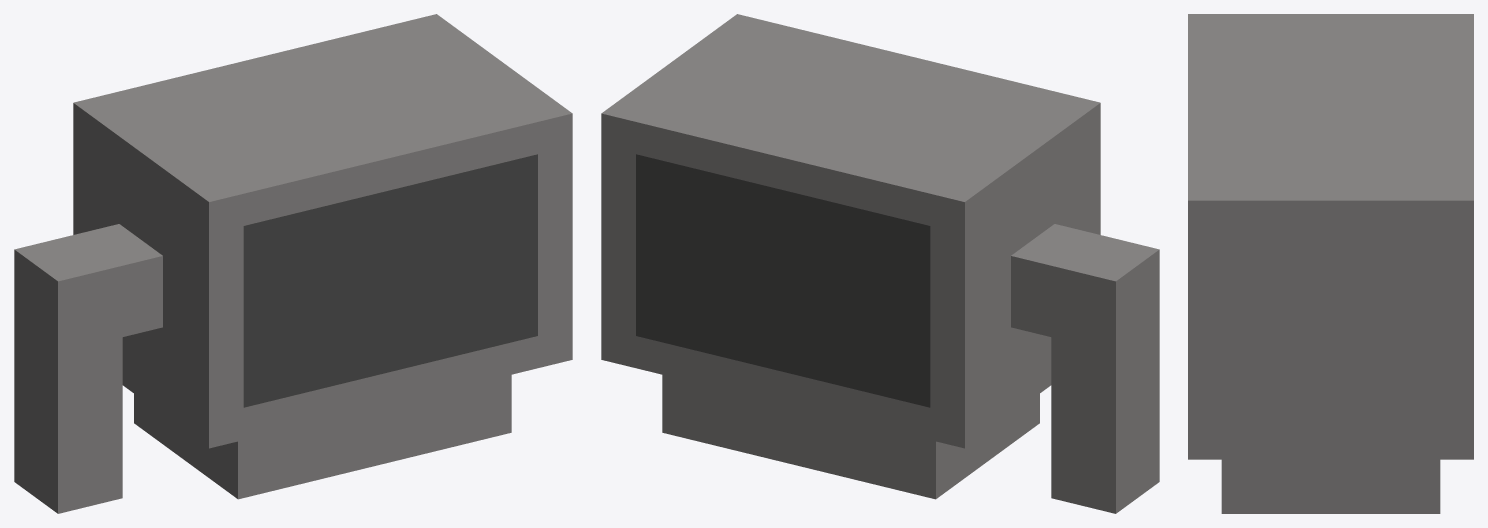
The model's file is SM_Prop_Airvent_01.fbx.
The picture shows the model from 3 angles, left to right: view 1: azimuth 30°, elevation 25°; view 2: azimuth 150°, elevation 25°; view 3: azimuth 270°, elevation 25°; orthographic projection. The views are drawn at different scales.
Parts seen in each view (by area): view 1: SM_Prop_Airvent_01; view 2: SM_Prop_Airvent_01; view 3: SM_Prop_Airvent_01.
Boxes of the visible parts, x1,y1,x2,y2 form: SM_Prop_Airvent_01: (14,14,572,513); SM_Prop_Airvent_01: (601,14,1159,513); SM_Prop_Airvent_01: (1188,14,1473,513).
Size of the model in its own units: 24.61 by 16.06 by 12.37.
